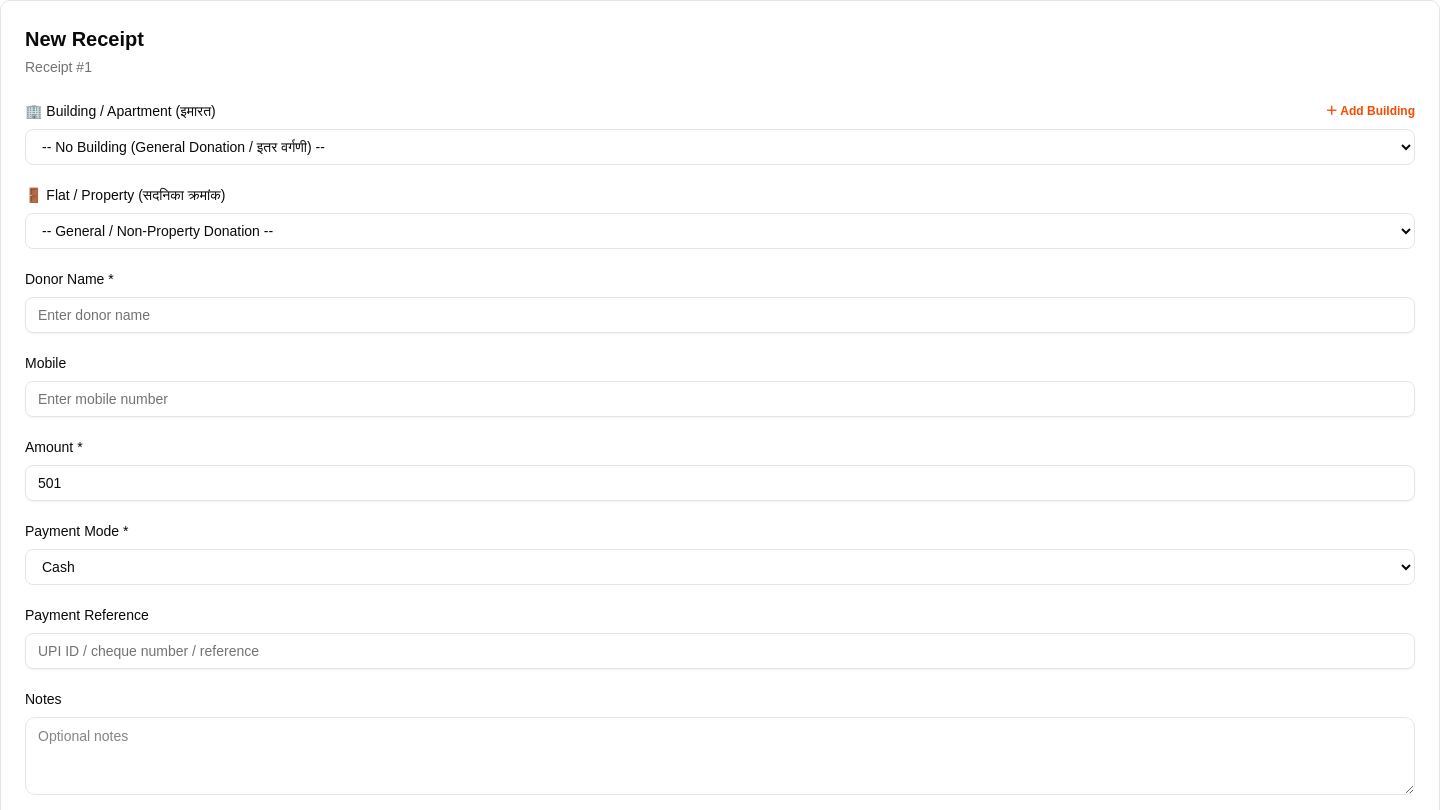
Test case: ReceiptCreationForm Progressive Dropdown & Inline Addition › opens inline Add Building dialog when '+ Add Building' button is clicked
The width and height of the screenshot is (1440, 810).
Click the button "＋ Add Building": point(1370, 111) [1326, 103, 1415, 119]
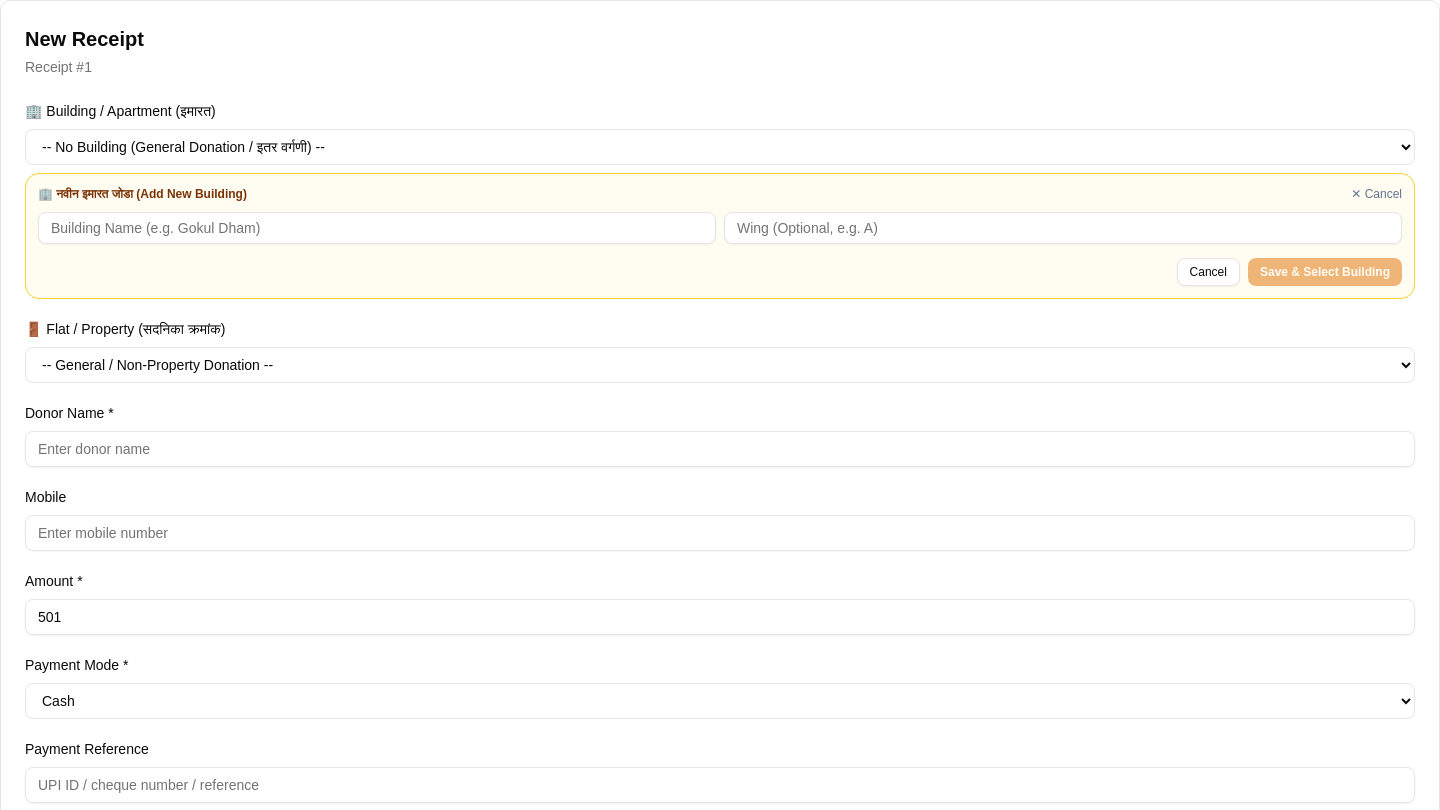
Expected: the field with placeholder "Building Name (e.g. Gokul Dham)" is shown, [38, 212, 716, 244]
